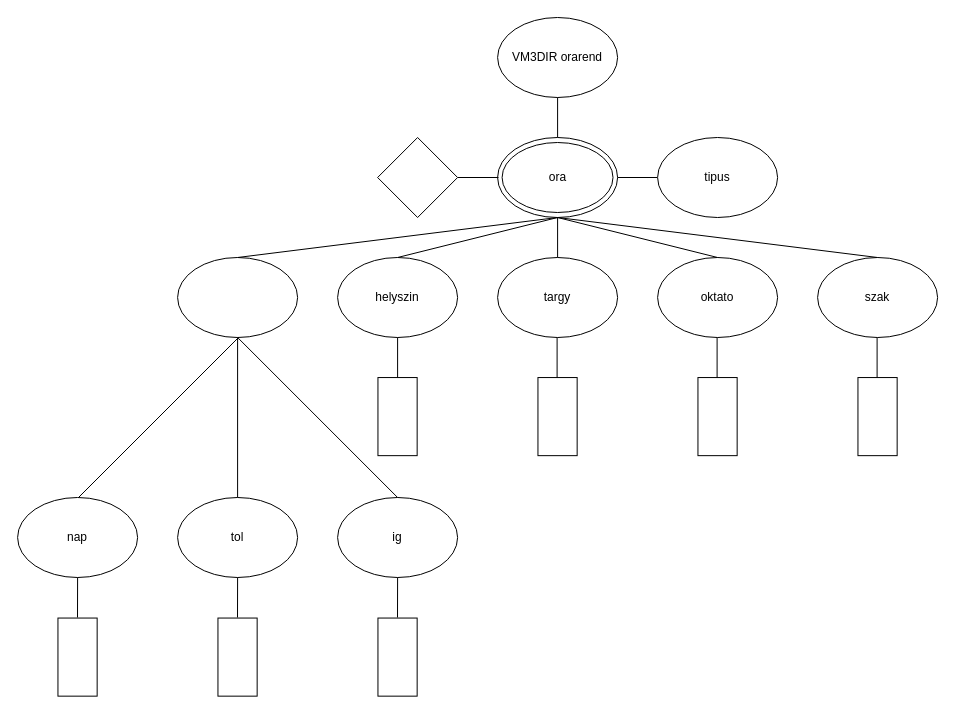
This 955x714 diagram has some shape labels left out. The centre of each missing label's shape, as x and y in pixels:
"id" belongs at (417,177).
"idopont" belongs at (237,297).
